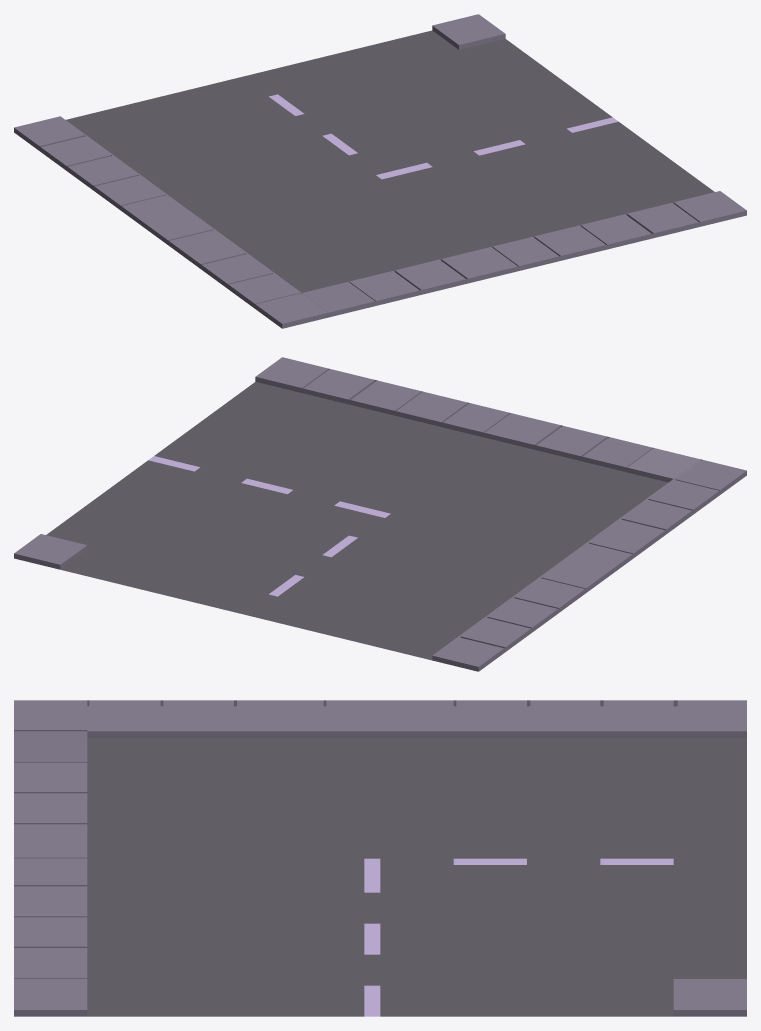
The model's file is Road_Turn_Right_Down.fbx.
3 views of the same model, one above another, from view 1: azimuth 30°, elevation 25°; view 2: azimuth 150°, elevation 25°; view 3: azimuth 270°, elevation 25° (orthographic). The views are drawn at different scales.
Visible parts, largest first — view 1: Road_Turn_Right_Down; view 2: Road_Turn_Right_Down; view 3: Road_Turn_Right_Down.
Part boxes in pixels (left/top/right/bottom): Road_Turn_Right_Down: left=14, top=14, right=746, bottom=328; Road_Turn_Right_Down: left=14, top=357, right=746, bottom=671; Road_Turn_Right_Down: left=14, top=700, right=746, bottom=1016.
Size of the model in its own units: 9.35 by 0.0958 by 9.35.
